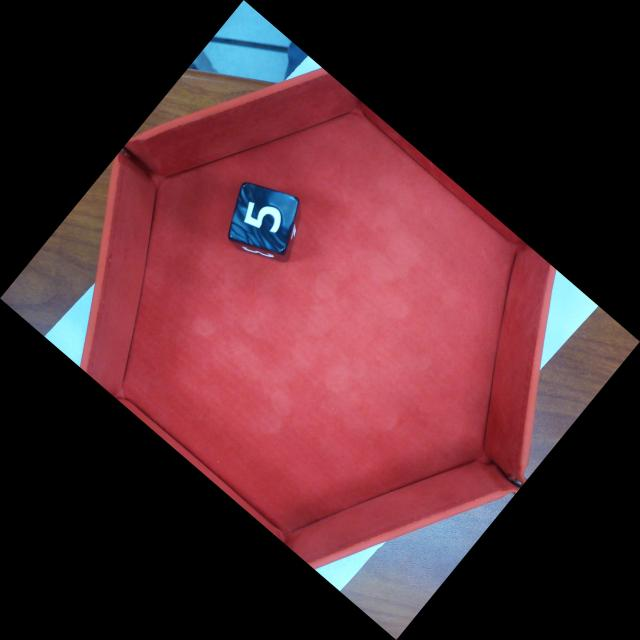dice: (225, 179, 302, 258)
